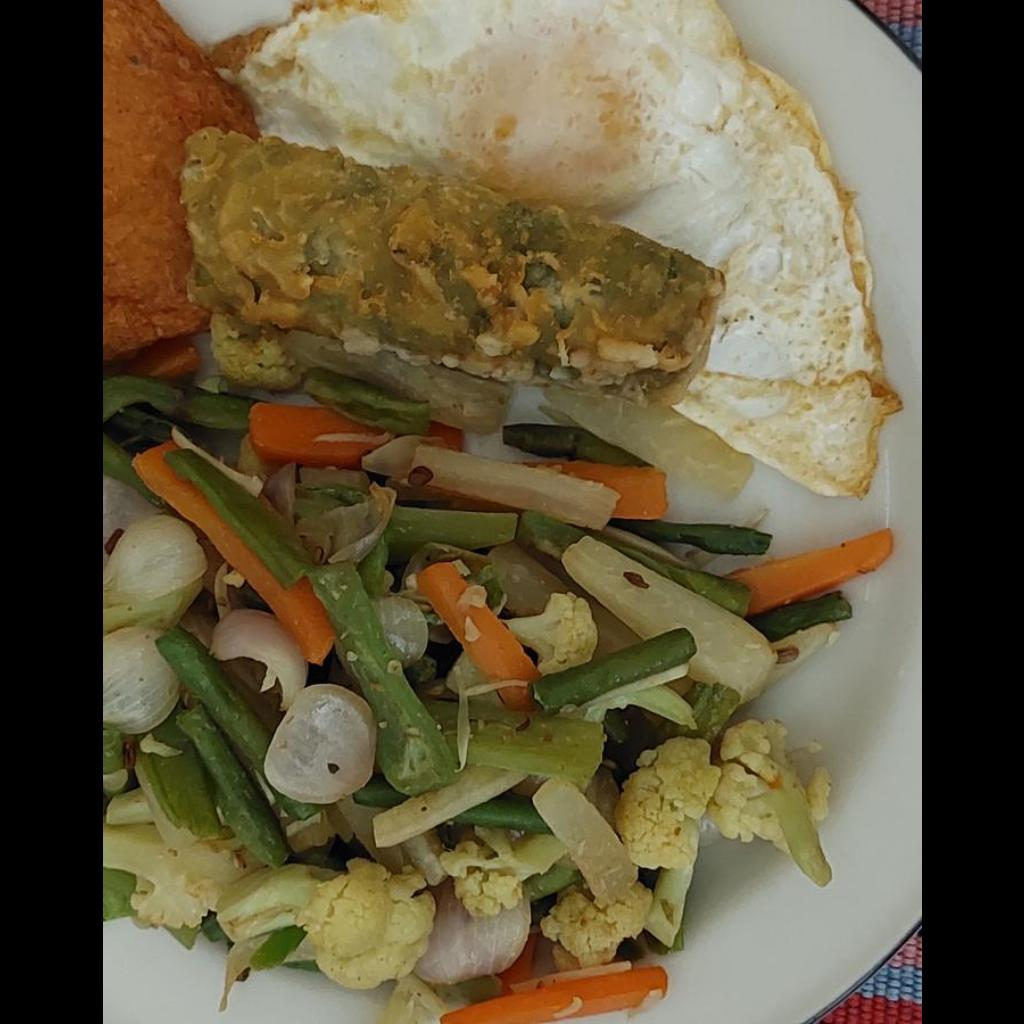chop-alu: (103, 5, 255, 351)
egg-poached: (249, 1, 900, 506)
vegetable: (103, 373, 894, 1019)
vorta: (179, 137, 715, 393)
